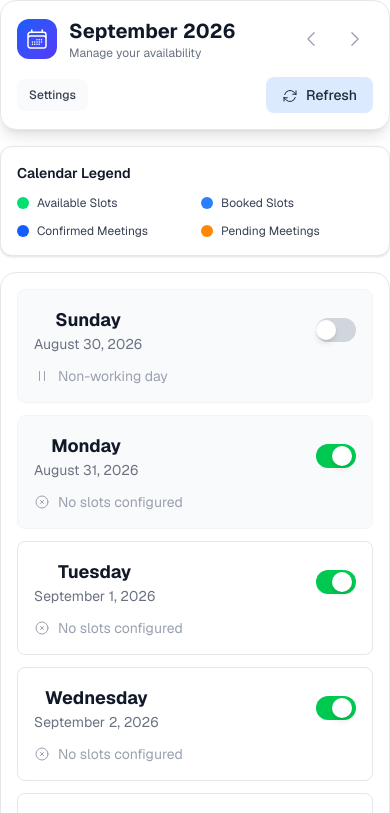
Test: AvailabilityCalendar › Modal Management › opens settings modal when clicking settings button
Step 1. Click the button titled "Open availability settings" → (52, 95), box [17,79,88,111]
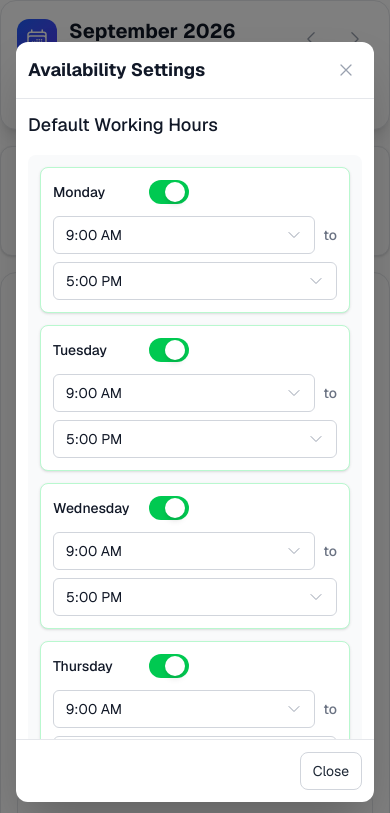
Expected: the heading "Availability Settings" is shown, [28,56,205,84]
